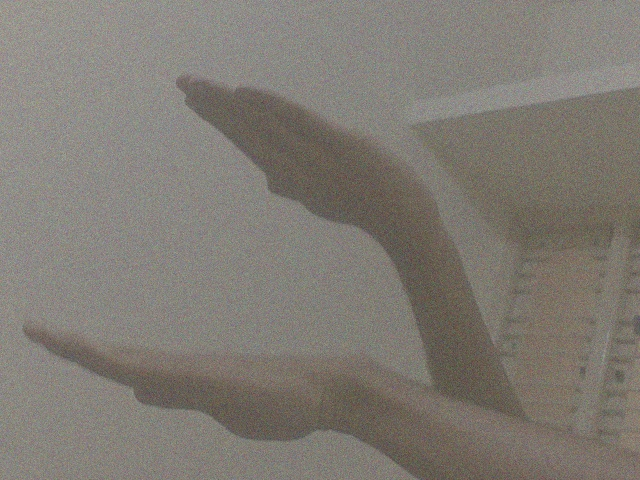hand: (174, 67, 425, 238), (20, 315, 334, 446)
